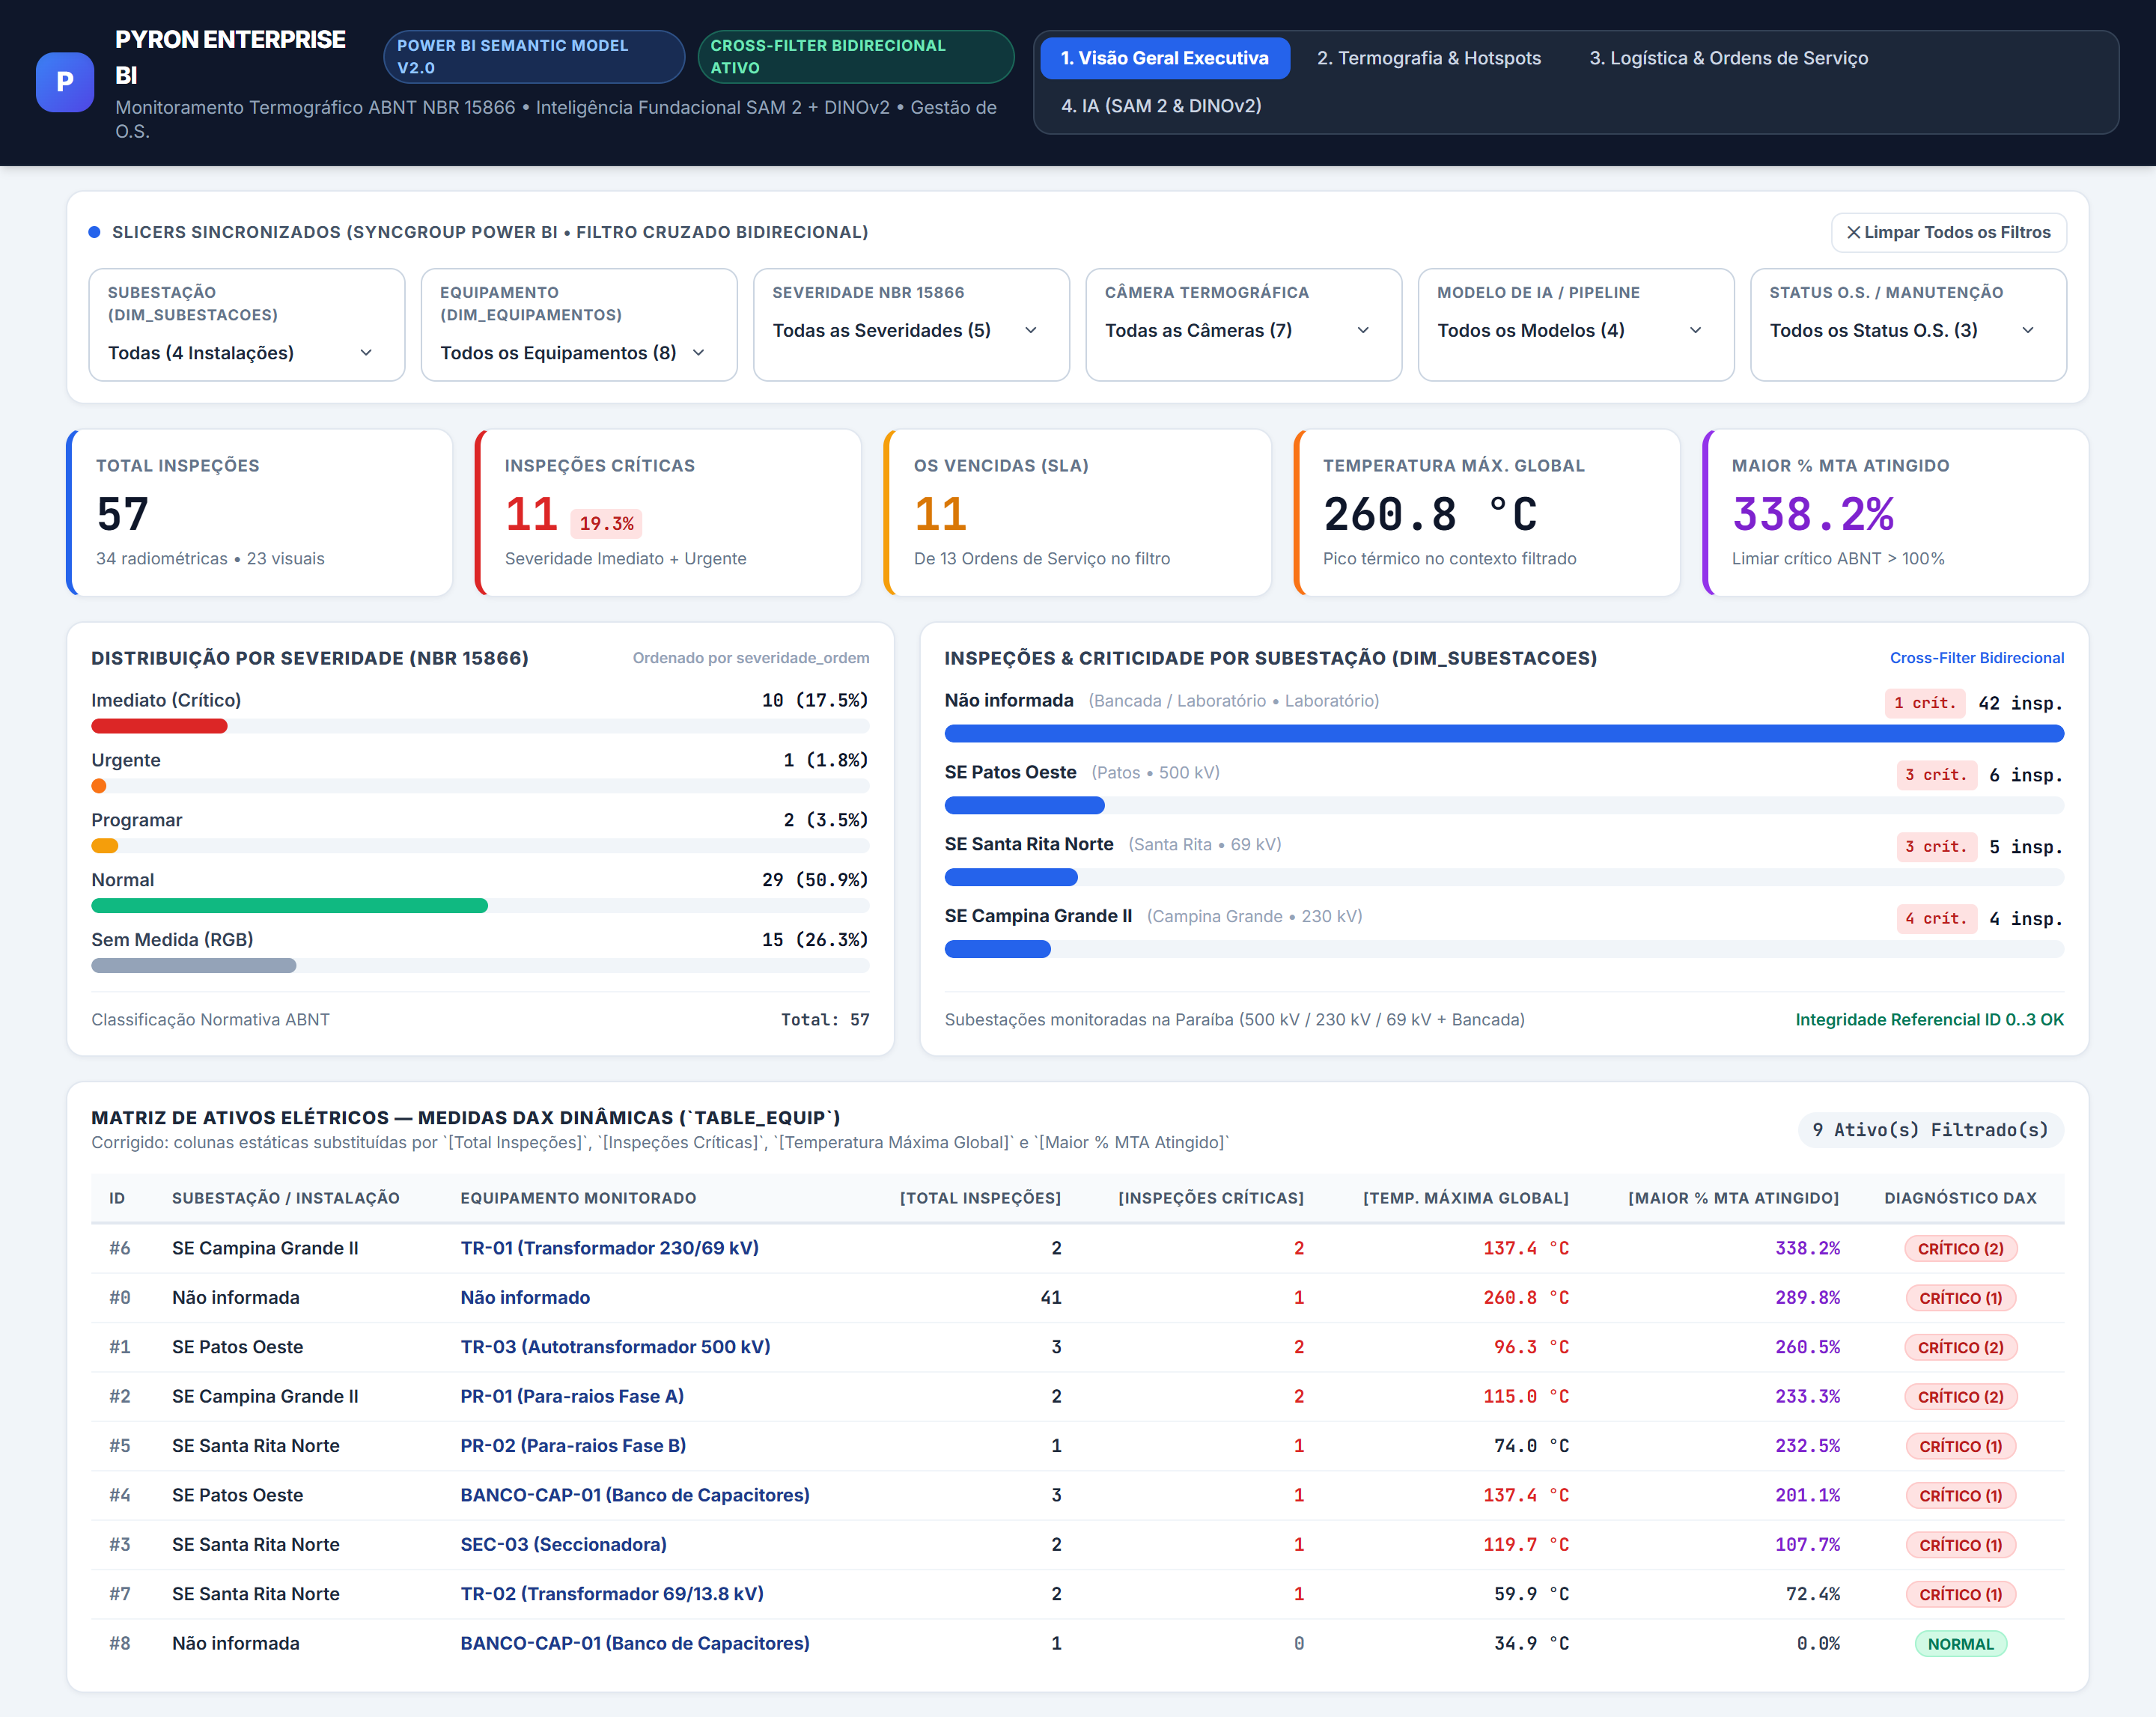

The page's visual inventory and layout, read from the dashboard file:
{"tool":"powerbi","page":{"name":"1. Visão Geral Executiva","canvas":[1280,720],"ordinal":0},"visuals":[{"type":"slicer","fields":{"Values":["Dim_Subestacoes.instalacao"]},"box":[20,15,290,75],"z":100},{"type":"slicer","fields":{"Values":["Dim_Equipamentos.equipamento"]},"box":[330,15,310,75],"z":200},{"type":"slicer","fields":{"Values":["Fato_Inspecoes.severidade"]},"box":[660,15,290,75],"z":300},{"type":"slicer","fields":{"Values":["Fato_Inspecoes.camera"]},"box":[970,15,290,75],"z":400},{"type":"card","fields":{"Values":["_Medidas.Total Inspeções"]},"box":[20,105,235,110],"z":500},{"type":"card","fields":{"Values":["_Medidas.Inspeções Críticas"]},"box":[270,105,235,110],"z":600},{"type":"card","fields":{"Values":["_Medidas.OS Vencidas"]},"box":[520,105,235,110],"z":700},{"type":"card","fields":{"Values":["_Medidas.Temperatura Máxima Global"]},"box":[770,105,235,110],"z":800},{"type":"card","fields":{"Values":["_Medidas.Maior % MTA Atingido"]},"box":[1020,105,240,110],"z":900},{"type":"donutChart","fields":{"Category":["Fato_Inspecoes.severidade"],"Y":["_Medidas.Total Inspeções"]},"box":[20,230,420,250],"z":1000},{"type":"clusteredColumnChart","fields":{"Category":["Dim_Subestacoes.instalacao"],"Y":["_Medidas.Total Inspeções"]},"box":[460,230,800,250],"z":1100},{"type":"tableEx","fields":{"Values":["Dim_Equipamentos.equipamento_id","Dim_Equipamentos.instalacao","Dim_Equipamentos.equipamento","_Medidas.Total Inspeções","_Medidas.Inspeções Críticas","_Medidas.Temperatura Máxima Global","_Medidas.Maior % MTA Atingido"]},"box":[20,495,1240,205],"z":1200}]}

Visuals, with their boxes on the page's 1280x720 design canvas (x1, y1, x2, y2). These are canvas units, not pixel positions in the 2156x1717 screenshot, which may show the page scaled, cropped or inside an application window:
slicer - Dim_Subestacoes.instalacao: bbox(20, 15, 310, 90)
slicer - Dim_Equipamentos.equipamento: bbox(330, 15, 640, 90)
slicer - Fato_Inspecoes.severidade: bbox(660, 15, 950, 90)
slicer - Fato_Inspecoes.camera: bbox(970, 15, 1260, 90)
card - _Medidas.Total Inspeções: bbox(20, 105, 255, 215)
card - _Medidas.Inspeções Críticas: bbox(270, 105, 505, 215)
card - _Medidas.OS Vencidas: bbox(520, 105, 755, 215)
card - _Medidas.Temperatura Máxima Global: bbox(770, 105, 1005, 215)
card - _Medidas.Maior % MTA Atingido: bbox(1020, 105, 1260, 215)
donutChart - Fato_Inspecoes.severidade x _Medidas.Total Inspeções: bbox(20, 230, 440, 480)
clusteredColumnChart - Dim_Subestacoes.instalacao x _Medidas.Total Inspeções: bbox(460, 230, 1260, 480)
tableEx - Dim_Equipamentos.equipamento_id x Dim_Equipamentos.instalacao: bbox(20, 495, 1260, 700)
